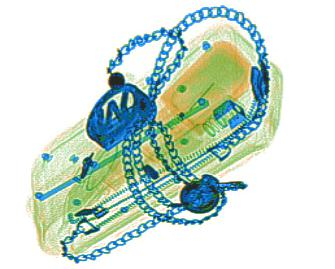plasticBottleWithaNozzle: (135, 38, 260, 167)
